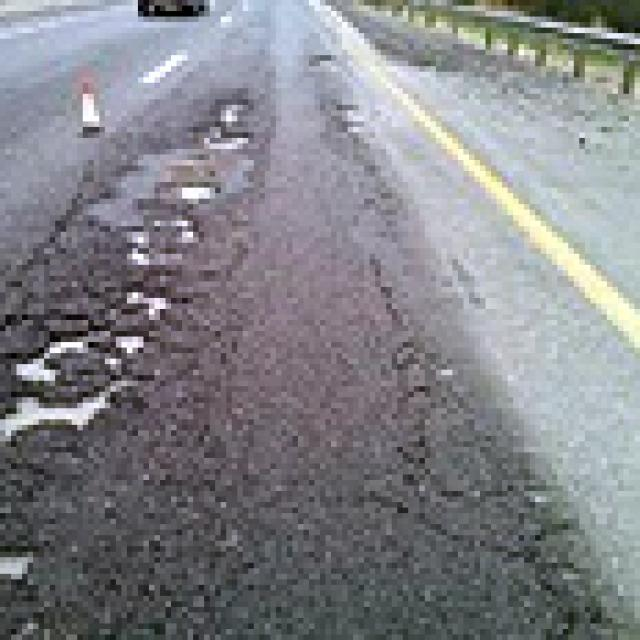medium_pothole: (0, 370, 138, 441), (0, 320, 77, 375), (110, 270, 166, 314), (0, 535, 28, 574), (166, 171, 210, 193), (204, 88, 237, 116), (198, 127, 242, 143), (105, 320, 132, 342), (303, 44, 331, 61)
minor_pothole: (138, 204, 188, 232), (116, 220, 138, 253), (94, 342, 110, 359), (336, 116, 358, 127), (326, 94, 348, 105)
